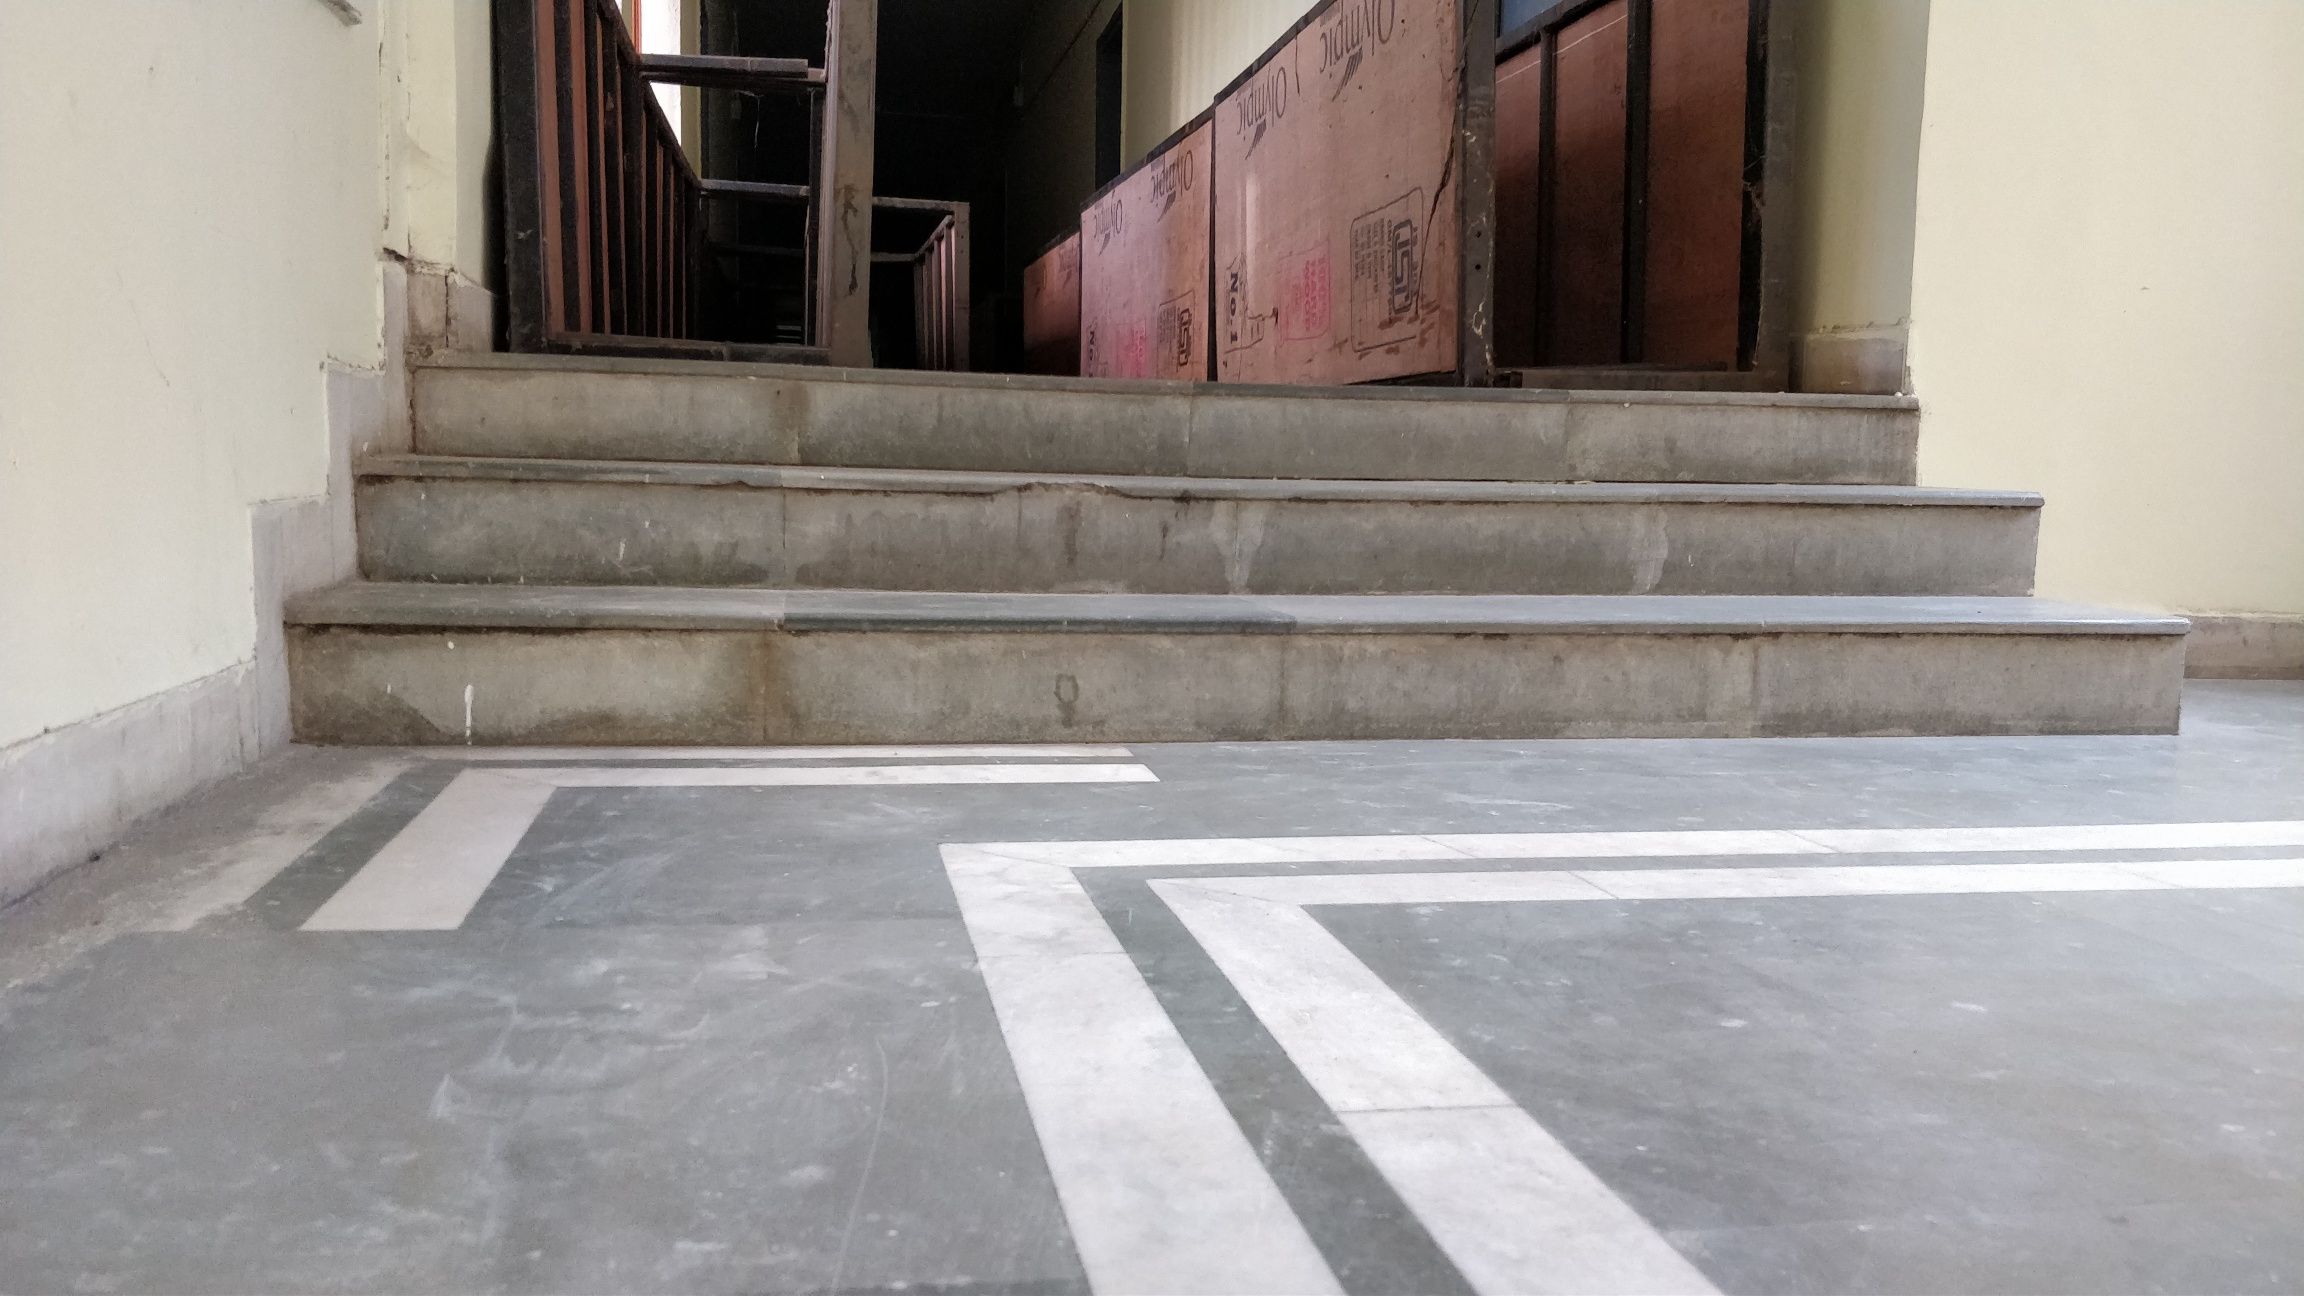stairs_up: (286, 324, 2222, 747)
